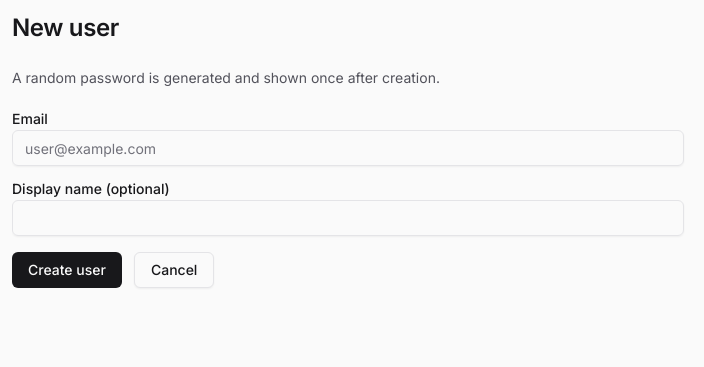
Test: AdminUserNewRoute › shows the API error detail when the server rejects the request
Type "newbie@example.com" into the field labelled "Email" at (348, 148), box [12, 130, 684, 166]
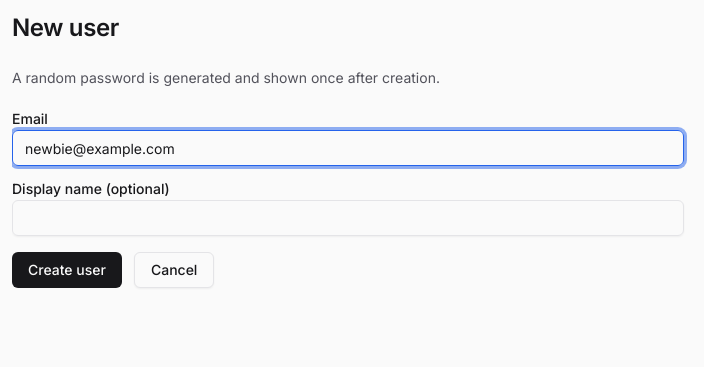
Click the button "Create user" at (67, 270), box [12, 252, 122, 288]
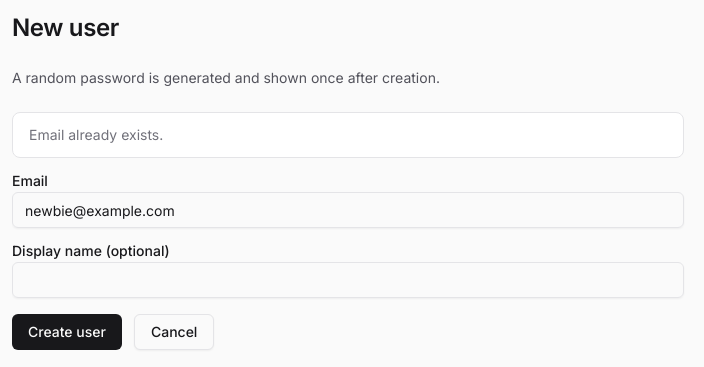
Check: the text "Email already exists." is shown, box [29, 126, 163, 143]
